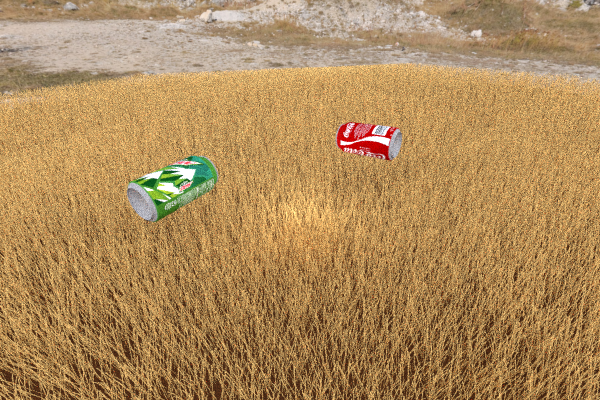bottle: (97, 117, 187, 154)
can: (126, 155, 218, 222), (335, 121, 401, 160)
